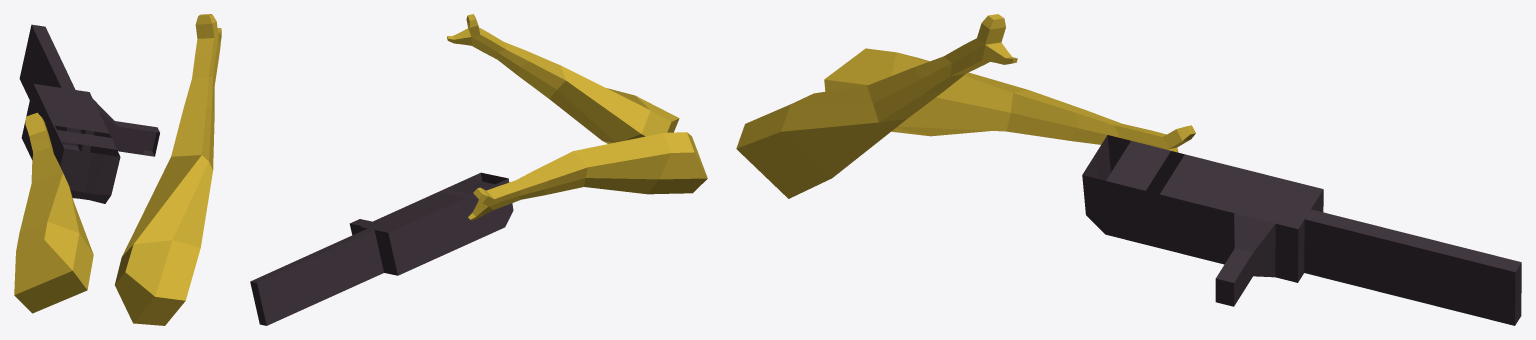
File: arme_000047.obj
3 views of the same model, side by side, from view 1: azimuth 30°, elevation 25°; view 2: azimuth 150°, elevation 25°; view 3: azimuth 270°, elevation 25° (orthographic). The views are drawn at different scales.
Visible parts, largest first — view 1: Cube.048_Cube.024, Cube.046_Cube.010; view 2: Cube.048_Cube.024, Cube.046_Cube.010; view 3: Cube.046_Cube.010, Cube.048_Cube.024.
Boxes of the visible parts, x1=… form: Cube.048_Cube.024: x1=14, y1=14, x2=221, y2=325; Cube.046_Cube.010: x1=19, y1=24, x2=159, y2=203; Cube.048_Cube.024: x1=447, y1=14, x2=707, y2=220; Cube.046_Cube.010: x1=250, y1=172, x2=513, y2=325; Cube.046_Cube.010: x1=1082, y1=135, x2=1521, y2=325; Cube.048_Cube.024: x1=736, y1=14, x2=1195, y2=198.
Bounding box in the file's own units: 1328 × 1000 × 2510.
